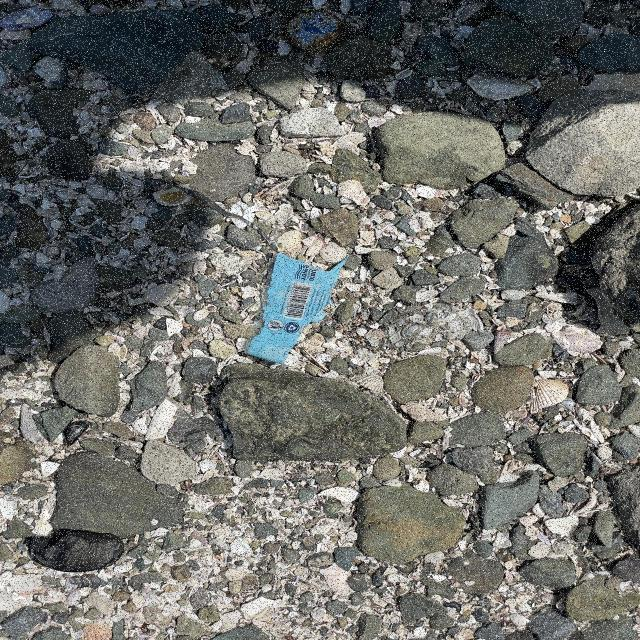plastic_waste: (246, 252, 353, 367)
